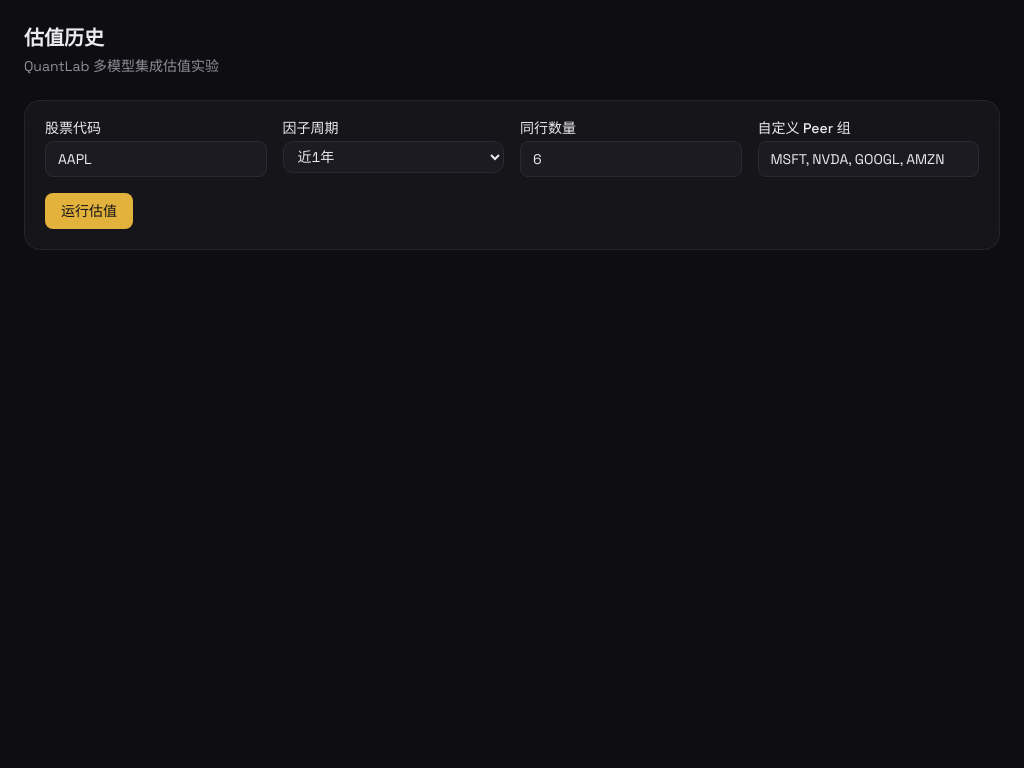
Test: ValuationLabPage › renders 3 stat cards after a successful run
This screenshot has width=1024, height=768.
Step 1. Click the button "运行估值" → click(89, 211), box [45,193,133,229]
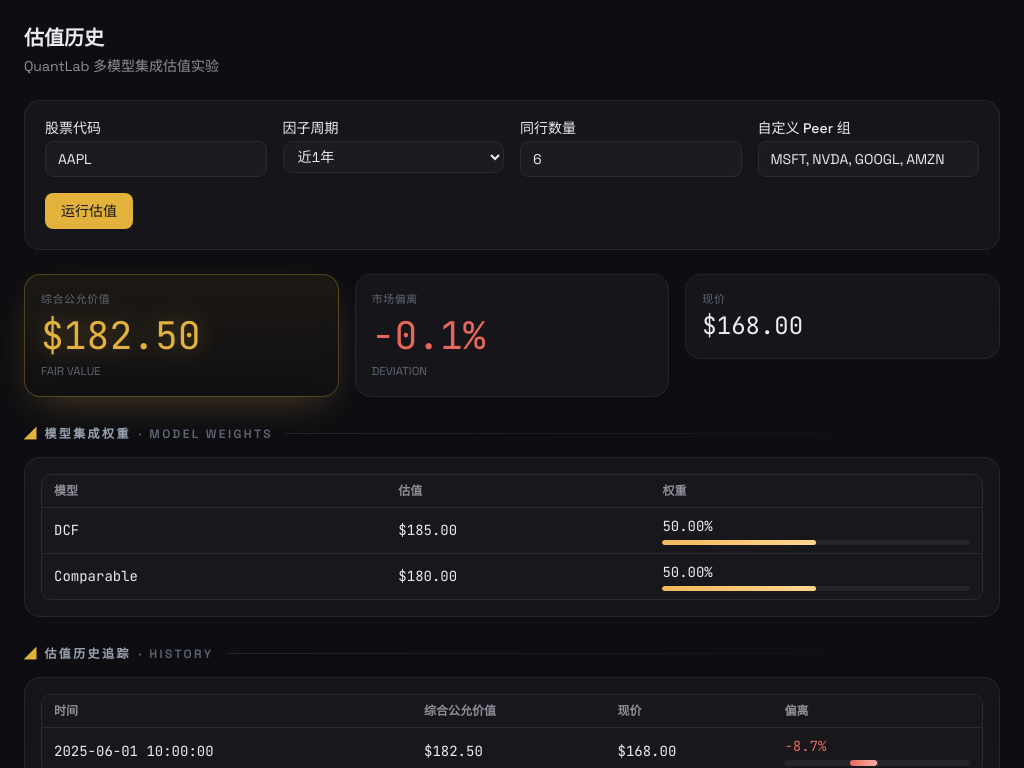
Now the text "综合公允价值" is shown, box [41,292,110,306]
Now the text "市场偏离" is shown, box [372,292,418,306]
Now the text "-8.7%" is shown, box [784,737,826,755]
